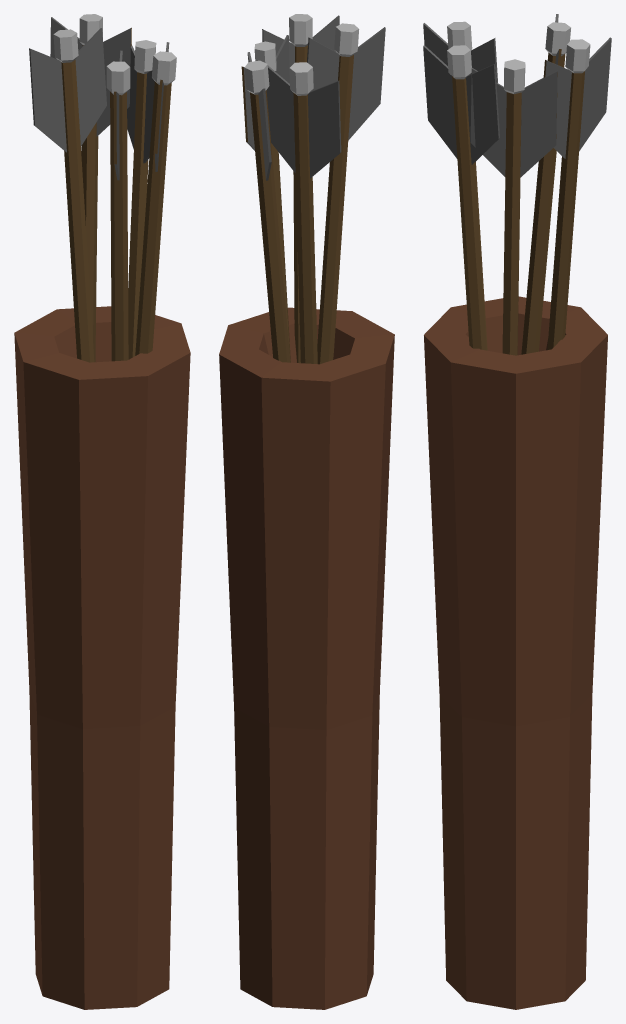
The model's file is olren_quiver.glb.
The picture shows the model from 3 angles, left to right: view 1: azimuth 30°, elevation 25°; view 2: azimuth 150°, elevation 25°; view 3: azimuth 270°, elevation 25°; orthographic projection.
Parts seen in each view (by area): view 1: Quiver, Arrow.001; view 2: Quiver, Arrow.001; view 3: Quiver, Arrow.001.
Part boxes in pixels (x1,y1,x2,y2): Quiver: [14, 306, 190, 1009]; Arrow.001: [29, 14, 176, 362]; Quiver: [219, 307, 394, 1009]; Arrow.001: [241, 14, 385, 364]; Quiver: [424, 296, 607, 1009]; Arrow.001: [423, 14, 611, 355].
Size of the model in its own units: 0.1092 by 0.6203 by 0.1118.
